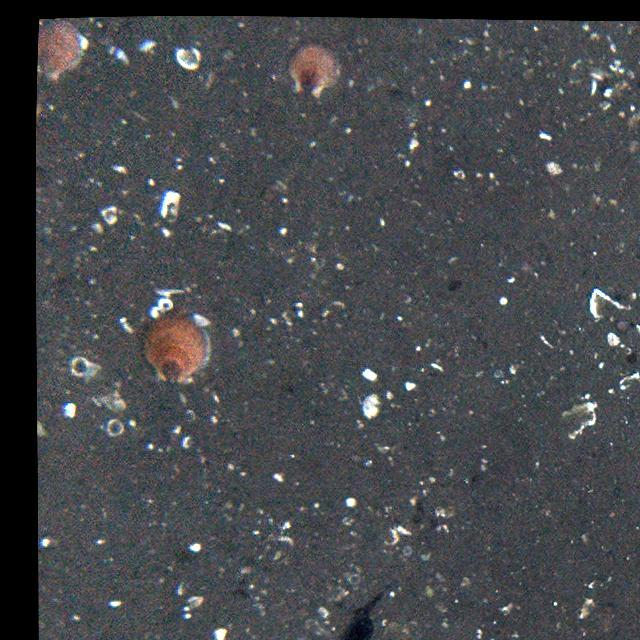scallop: (142, 313, 216, 386), (283, 44, 343, 98)
